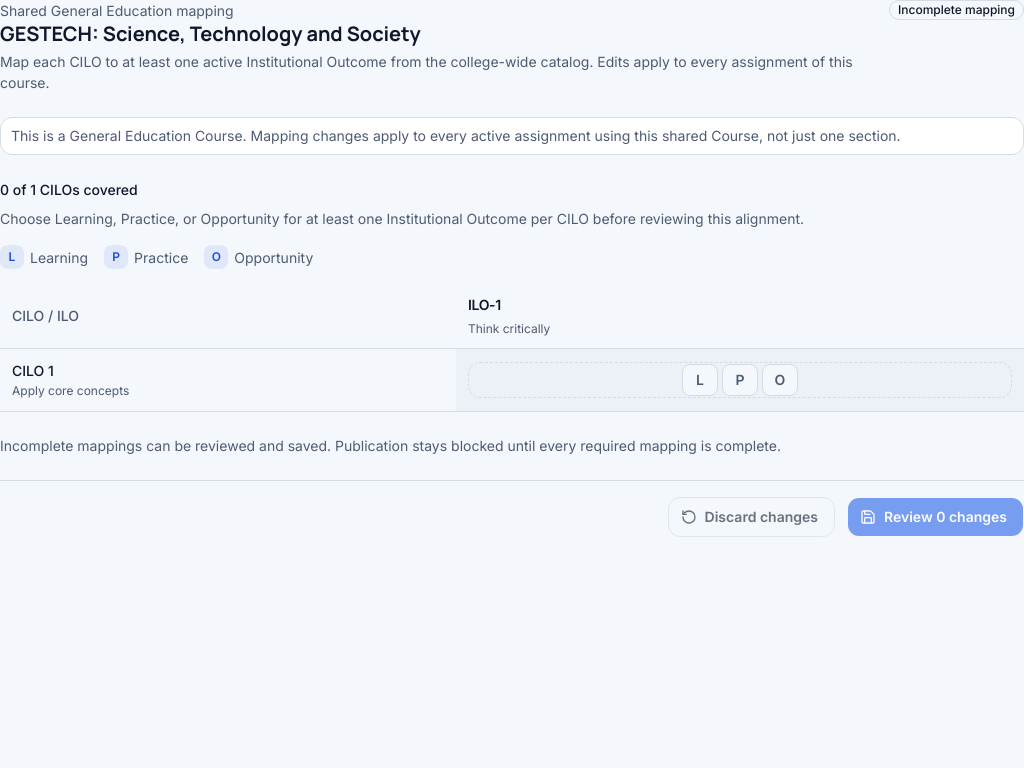
Scenario: CourseAlignmentEditor › holds the editor and offers the confirmation when history is traversed
Click the button named "CILO 1, ILO 1, manifestation: Learning": (700, 380) [682,364,718,396]
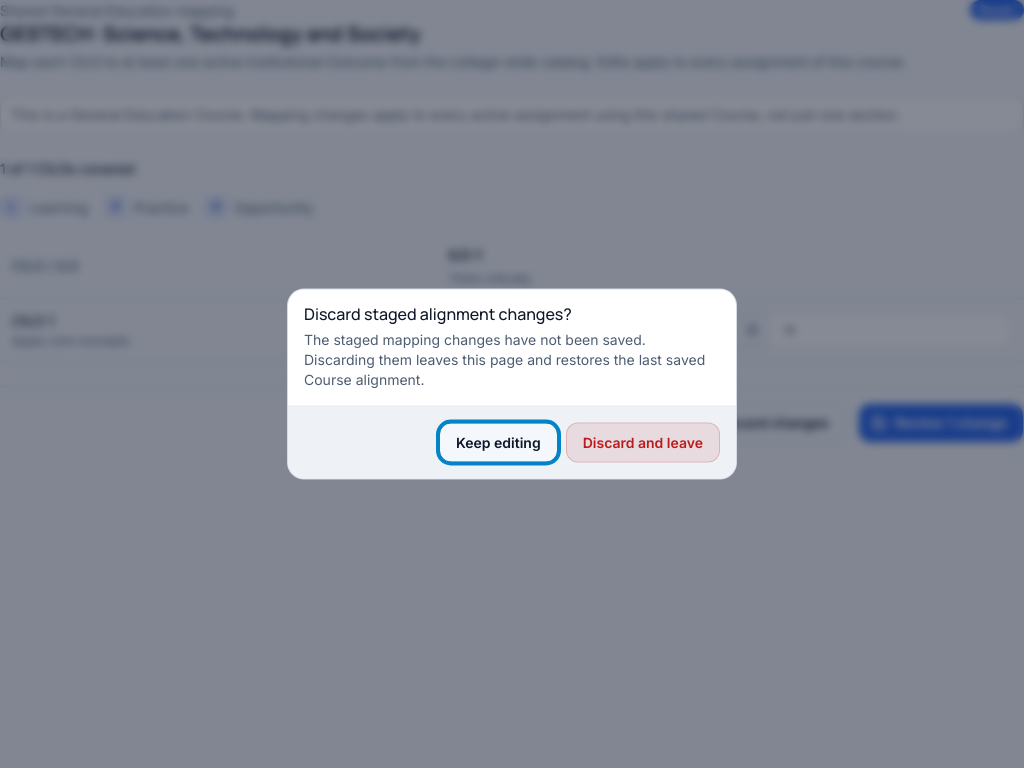
expect the element with test id "manifestation-matrix" is shown: met, box [0,235,1023,362]
expect the heading "Discard staged alignment changes?" is shown: met, box [304,302,572,324]
